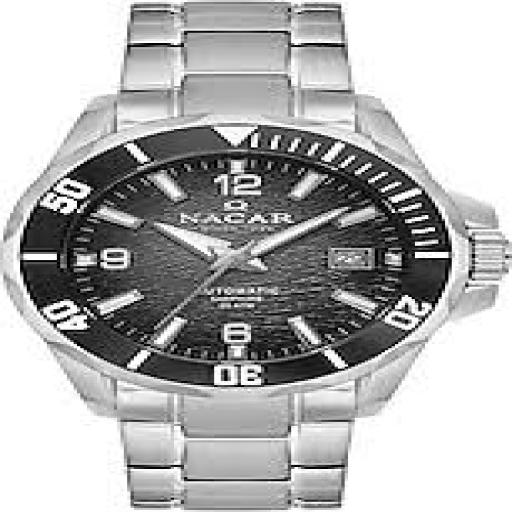KolSaati: (5, 2, 512, 495)
